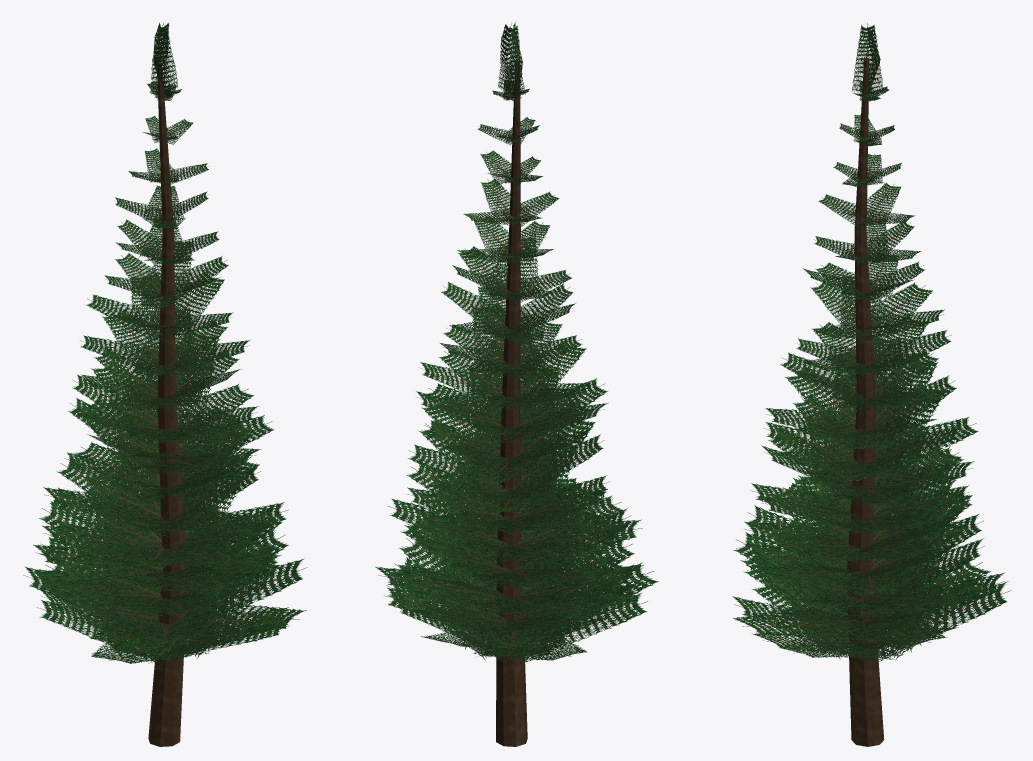
File: conifer_m_near.glb
3 views of the same model, side by side, from view 1: azimuth 30°, elevation 25°; view 2: azimuth 150°, elevation 25°; view 3: azimuth 270°, elevation 25° (orthographic).
Visible parts, largest first — view 1: conifer_m_near; view 2: conifer_m_near; view 3: conifer_m_near.
Boxes of the visible parts, bbox=[...] form: conifer_m_near: bbox=[23, 22, 307, 746]; conifer_m_near: bbox=[375, 22, 658, 746]; conifer_m_near: bbox=[732, 23, 1010, 746].
Size of the model in its own units: 4.76 by 12.1 by 4.76.
2 materials, 2 textured.
